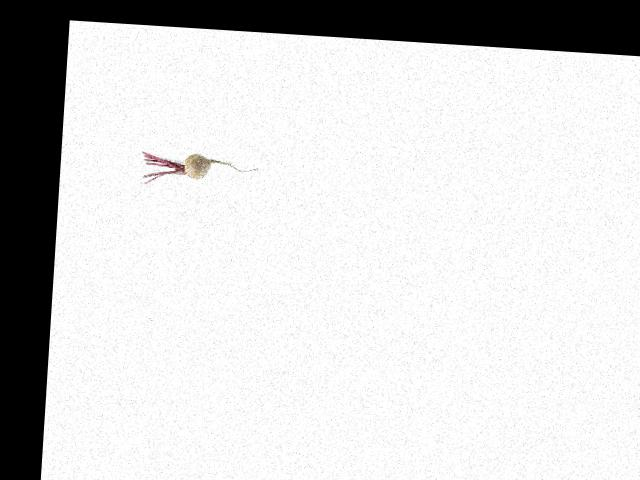beet: (140, 150, 260, 189)
